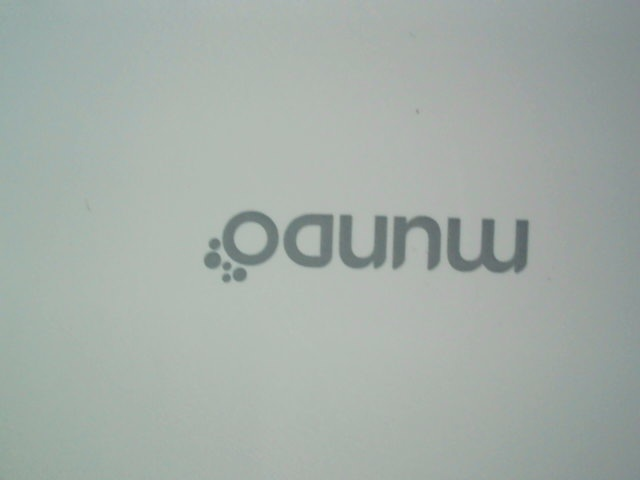BI_MUNDO: (195, 197, 541, 290)
